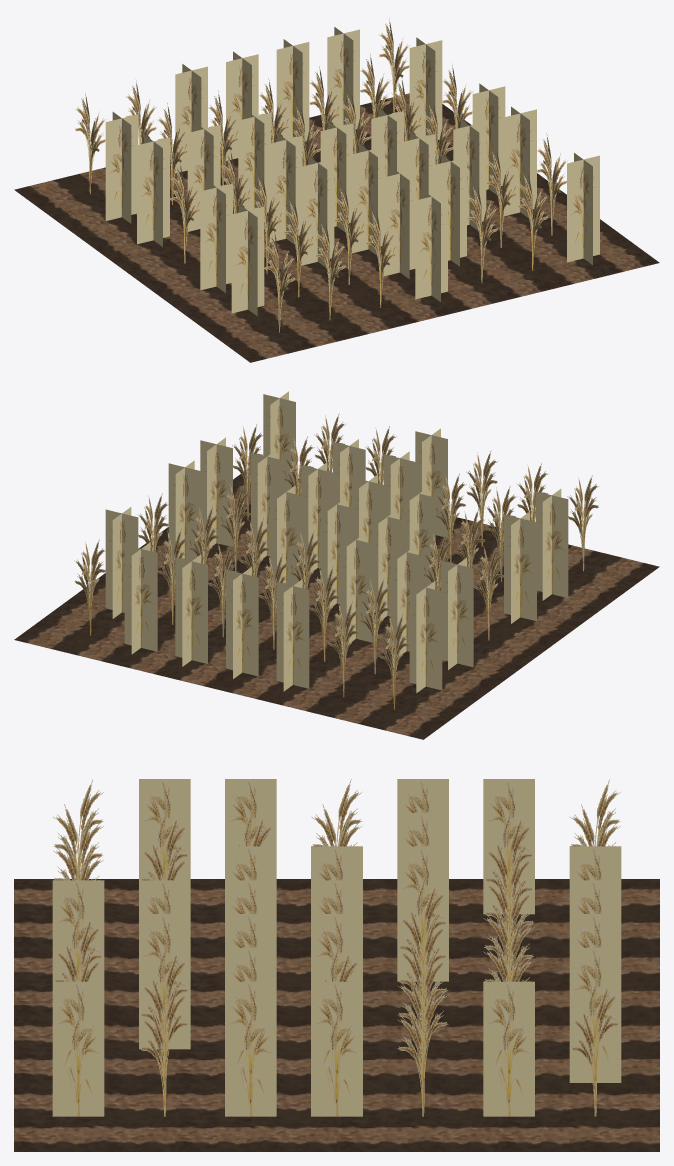
Rendered from crops.fbx.
3 views of the same model, one above another, from view 1: azimuth 30°, elevation 25°; view 2: azimuth 150°, elevation 25°; view 3: azimuth 270°, elevation 25° (orthographic). The views are drawn at different scales.
Visible parts, largest first — view 1: Plane, Plane_1_8, Plane_1_7, Plane_1_29, Plane_1_4, Plane_1_36, Plane_1_15, Plane_1_17, Plane_1_11, Plane_1_21, Plane_1_24, Plane_1_18 (+55 smaller); view 2: Plane, Plane_1_48, Plane_1_45, Plane_1_36, Plane_1_47, Plane_1_15, Plane_1_46, Plane_1_8, Plane_1_29, Plane_1_31, Plane_1_21, Plane_1_28 (+62 smaller); view 3: Plane, Plane_2_7, Plane_2_21, Plane_2_28, Plane_2_42, Plane_2_48, Plane_2_12, Plane_2_31, Plane_2_36, Plane_2_4, Plane_2_8, Plane_2_26 (+30 smaller).
Part boxes in pixels (box(x1,y1,x2,y2)): Plane: box(14, 93, 659, 362); Plane_1_8: box(231, 207, 264, 313); Plane_1_7: box(567, 155, 599, 262); Plane_1_29: box(137, 137, 169, 244); Plane_1_4: box(415, 192, 447, 299); Plane_1_36: box(105, 114, 138, 220); Plane_1_15: box(200, 183, 232, 290); Plane_1_17: box(301, 159, 334, 265); Plane_1_11: box(383, 169, 416, 276); Plane_1_21: box(504, 109, 536, 216); Plane_1_24: box(270, 136, 302, 242); Plane_1_18: box(352, 146, 384, 253); Plane: box(14, 468, 659, 739); Plane_1_48: box(124, 545, 157, 651); Plane_1_45: box(276, 582, 309, 688); Plane_1_36: box(409, 584, 442, 690); Plane_1_47: box(175, 557, 207, 663); Plane_1_15: box(504, 514, 536, 621); Plane_1_46: box(226, 569, 258, 676); Plane_1_8: box(535, 491, 568, 597); Plane_1_29: box(441, 560, 473, 667); Plane_1_31: box(339, 536, 372, 642); Plane_1_21: box(200, 440, 232, 546); Plane_1_28: box(168, 463, 201, 563); Plane: box(14, 879, 659, 1151); Plane_2_7: box(52, 981, 104, 1116); Plane_2_21: box(225, 981, 276, 1116); Plane_2_28: box(311, 981, 362, 1116); Plane_2_42: box(483, 981, 534, 1116); Plane_2_48: box(569, 947, 621, 1082); Plane_2_12: box(139, 914, 190, 1049); Plane_2_31: box(397, 846, 448, 981); Plane_2_36: box(483, 779, 534, 914); Plane_2_4: box(52, 880, 104, 981); Plane_2_8: box(139, 779, 190, 880); Plane_2_26: box(311, 914, 362, 981).
Size of the model in its own units: 500 by 120 by 500.
99 materials, 99 textured.
